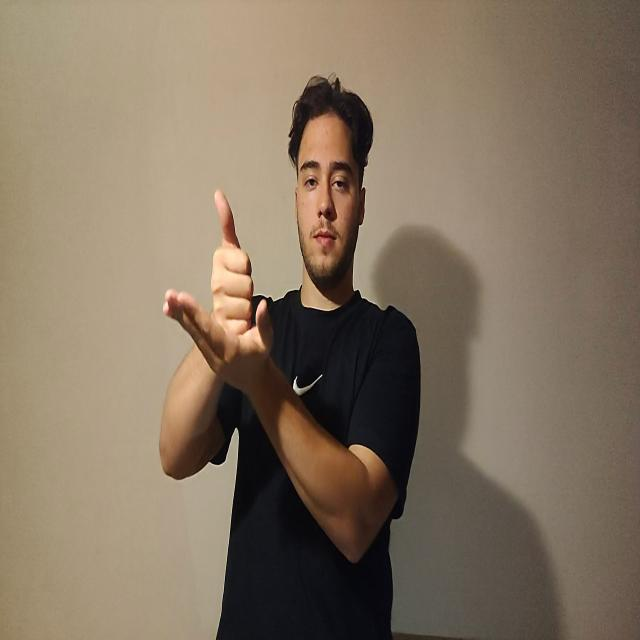help: (164, 185, 271, 382)
